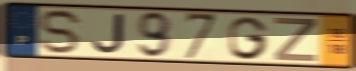7: (184, 12, 221, 61)
9: (136, 10, 175, 60)
G: (226, 15, 270, 61)
J: (90, 12, 126, 55)
S: (37, 8, 85, 56)
Z: (272, 16, 319, 63)
